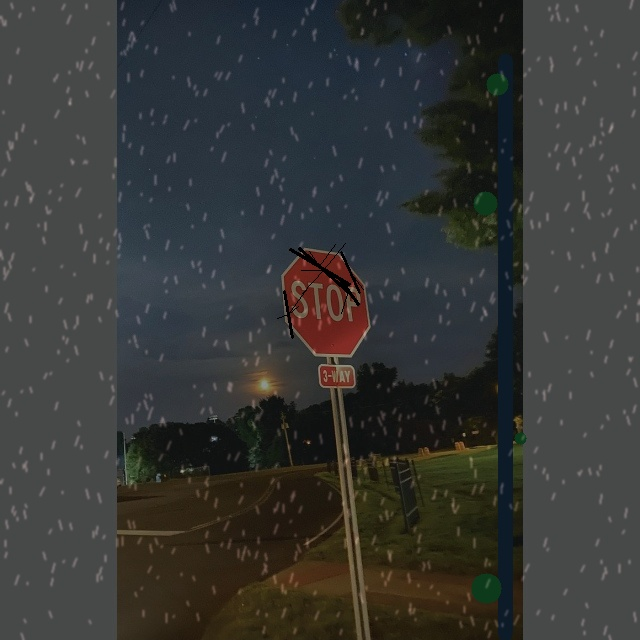Stop: (282, 248, 372, 359)
